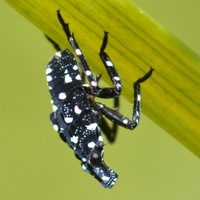insect: (46, 10, 152, 187)
